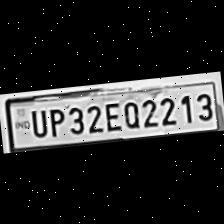1: (174, 91, 194, 124)
2: (155, 93, 177, 126), (84, 100, 104, 134), (138, 94, 158, 128)
3: (192, 88, 214, 122), (64, 102, 85, 134)
E: (100, 98, 122, 132)
P: (45, 104, 66, 136)
Q: (119, 97, 141, 129)
U: (26, 106, 47, 138)
